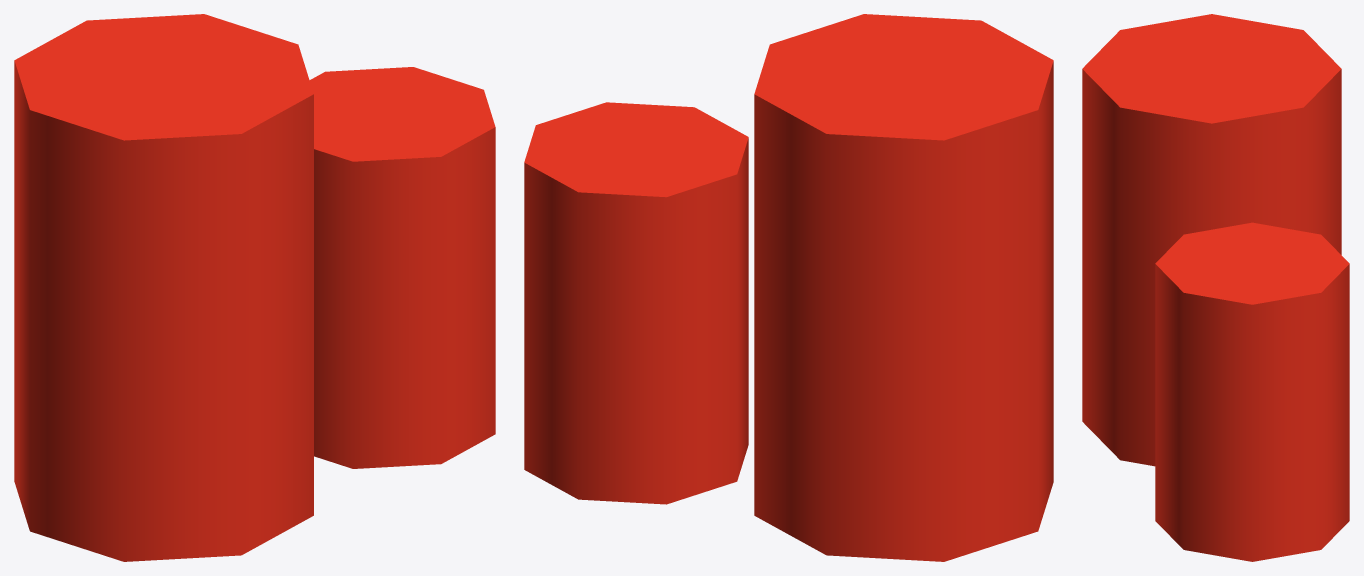
File: decor_amphora_cluster_collision.glb
The picture shows the model from 3 angles, left to right: view 1: azimuth 30°, elevation 25°; view 2: azimuth 150°, elevation 25°; view 3: azimuth 270°, elevation 25°; orthographic projection. The views are drawn at different scales.
Parts seen in each view (by area): view 1: decor_amphora_cluster-col; view 2: decor_amphora_cluster-col; view 3: decor_amphora_cluster-col.
Part boxes in pixels (x1=…): decor_amphora_cluster-col: x1=14, y1=14, x2=495, y2=561; decor_amphora_cluster-col: x1=524, y1=14, x2=1053, y2=561; decor_amphora_cluster-col: x1=1082, y1=14, x2=1349, y2=561.
Bounding box in the file's own units: 1.14 × 0.96 × 0.66.
